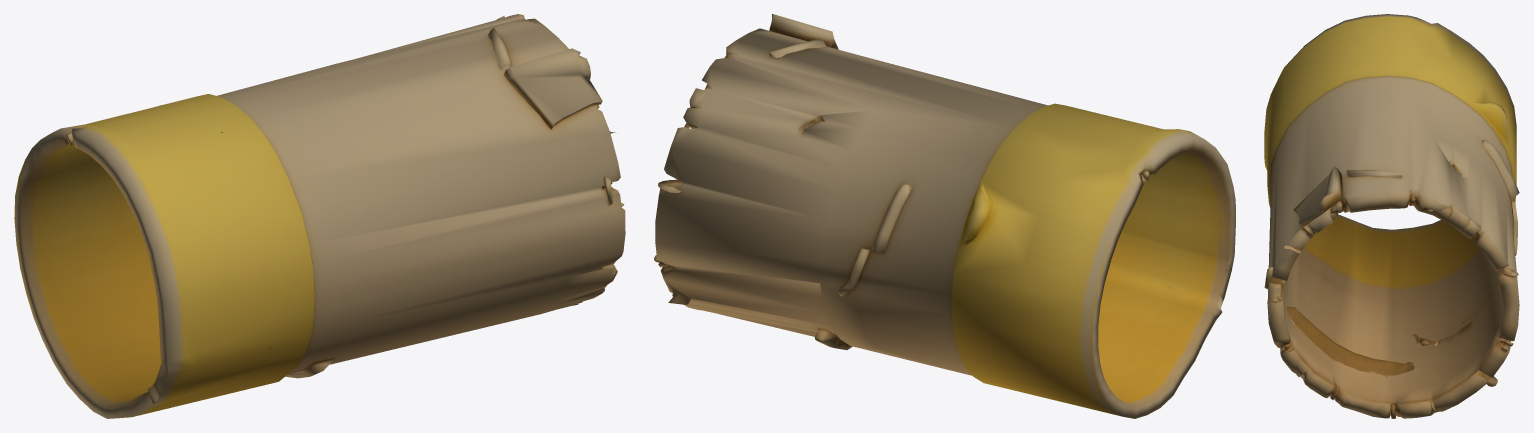
Rendered from roll_junk.glb.
3 views of the same model, side by side, from view 1: azimuth 30°, elevation 25°; view 2: azimuth 150°, elevation 25°; view 3: azimuth 270°, elevation 25° (orthographic). The views are drawn at different scales.
Parts seen in each view (by area): view 1: tripo_node_a2c07f5c-1b28-4045-b2bd-81e7fa983e29; view 2: tripo_node_a2c07f5c-1b28-4045-b2bd-81e7fa983e29; view 3: tripo_node_a2c07f5c-1b28-4045-b2bd-81e7fa983e29.
Boxes of the visible parts, bbox=[...] form: tripo_node_a2c07f5c-1b28-4045-b2bd-81e7fa983e29: bbox=[14, 14, 625, 418]; tripo_node_a2c07f5c-1b28-4045-b2bd-81e7fa983e29: bbox=[654, 14, 1235, 418]; tripo_node_a2c07f5c-1b28-4045-b2bd-81e7fa983e29: bbox=[1264, 14, 1519, 418].
Size of the model in its own units: 0.9995 by 0.5757 by 0.5767.
Materials: 1 (1 with a texture image).
